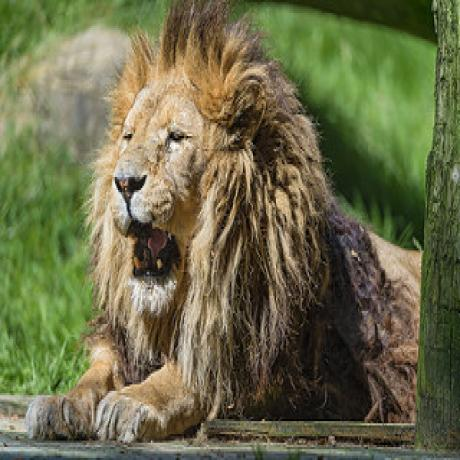Lion: (39, 0, 414, 441)
